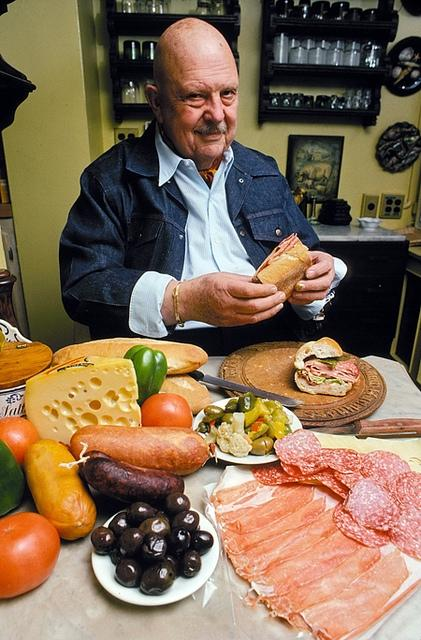tomato: (0, 513, 60, 599), (0, 417, 40, 470), (142, 393, 192, 429), (354, 364, 361, 378)
